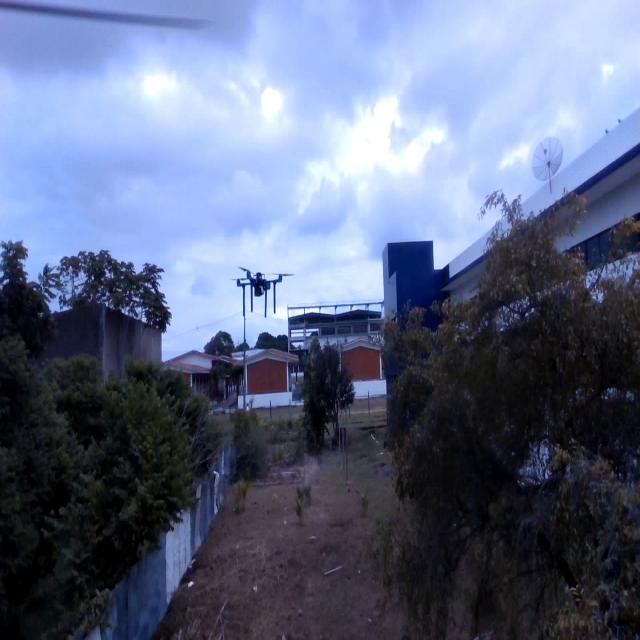-uav-: (226, 255, 297, 320)
